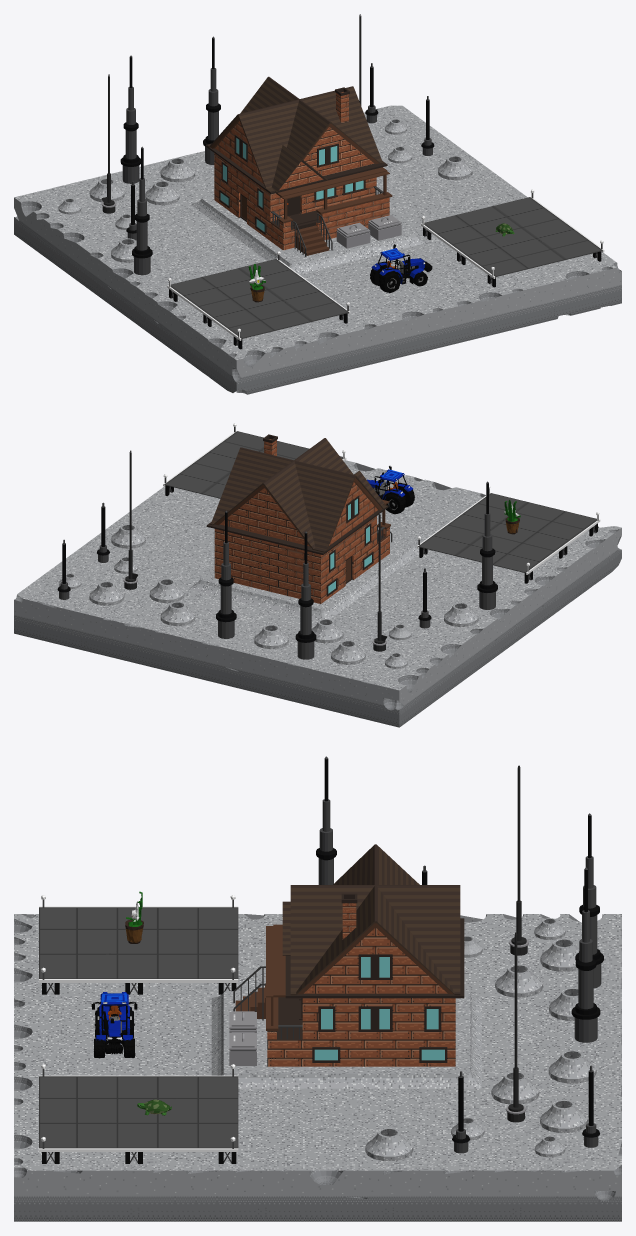
3 views of the same model, one above another, from view 1: azimuth 30°, elevation 25°; view 2: azimuth 150°, elevation 25°; view 3: azimuth 270°, elevation 25° (orthographic). The views are drawn at different scales.
Visible parts, largest first — view 1: Cube.027, Cube.469, Cube.026, Cube.025, Cube.028, VEHICLES_TRACTOR, Cylinder.020, Cylinder.021, Cylinder.017, Cube.029, Cube.030, Cylinder.027 (+3 smaller); view 2: Cube.027, Cube.469, Cube.025, Cube.028, Cube.026, Cylinder.020, Cylinder.021, Cylinder.017, VEHICLES_TRACTOR, Cylinder.031, Cylinder.028, Cylinder.029 (+7 smaller); view 3: Cube.027, Cube.469, Cube.026, Cube.025, Cube.028, VEHICLES_TRACTOR, Cylinder.017, Cylinder.020, Cylinder.021, Cylinder.033, Cylinder.031, Cylinder.029 (+9 smaller).
Part boxes in pixels (bbox=[...]): Cube.027: bbox=[14, 105, 621, 394]; Cube.469: bbox=[205, 76, 392, 256]; Cube.026: bbox=[421, 189, 604, 287]; Cube.025: bbox=[167, 251, 350, 349]; Cube.028: bbox=[191, 195, 424, 274]; VEHICLES_TRACTOR: bbox=[370, 244, 432, 293]; Cylinder.020: bbox=[120, 55, 140, 183]; Cylinder.021: bbox=[132, 146, 152, 275]; Cylinder.017: bbox=[203, 36, 220, 164]; Cube.029: bbox=[336, 222, 370, 248]; Cube.030: bbox=[368, 215, 401, 240]; Cylinder.027: bbox=[160, 158, 195, 182]; Cube.027: bbox=[14, 460, 621, 727]; Cube.469: bbox=[206, 434, 392, 603]; Cube.025: bbox=[417, 485, 600, 583]; Cube.028: bbox=[190, 538, 419, 620]; Cube.026: bbox=[163, 423, 346, 498]; Cylinder.020: bbox=[295, 531, 316, 659]; Cylinder.021: bbox=[477, 481, 497, 609]; Cylinder.017: bbox=[216, 510, 236, 638]; VEHICLES_TRACTOR: bbox=[367, 466, 414, 514]; Cylinder.031: bbox=[89, 581, 124, 605]; Cylinder.028: bbox=[331, 640, 365, 664]; Cylinder.029: bbox=[160, 601, 195, 626]; Cube.027: bbox=[14, 914, 621, 1221]; Cube.469: bbox=[233, 844, 464, 1066]; Cube.026: bbox=[39, 1064, 238, 1163]; Cube.025: bbox=[39, 895, 238, 994]; Cube.028: bbox=[211, 991, 481, 1088]; VEHICLES_TRACTOR: bbox=[91, 992, 137, 1058]; Cylinder.017: bbox=[571, 867, 600, 1042]; Cylinder.020: bbox=[575, 813, 603, 988]; Cylinder.021: bbox=[316, 756, 336, 884]; Cylinder.033: bbox=[365, 1128, 413, 1160]; Cylinder.031: bbox=[540, 1100, 587, 1132]; Cylinder.029: bbox=[548, 1050, 596, 1083].
Bounding box in the file's own units: 4000 × 1799 × 4000.
Materials: 40 (5 with a texture image).
